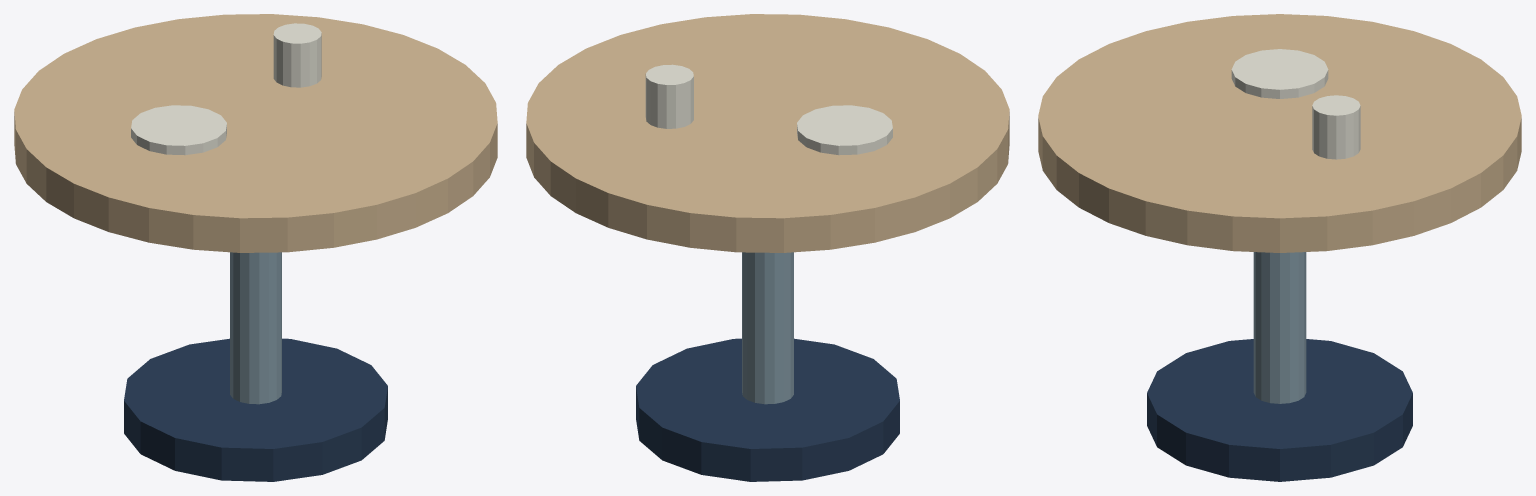
Rendered from table_round.glb.
3 views of the same model, side by side, from view 1: azimuth 30°, elevation 25°; view 2: azimuth 150°, elevation 25°; view 3: azimuth 270°, elevation 25° (orthographic).
Visible parts, largest first — view 1: top, base, stem, plate, cup; view 2: top, base, stem, plate, cup; view 3: top, base, stem, plate, cup.
Part boxes in pixels (left/top/right/bottom): top: left=14, top=14, right=497, bottom=252; base: left=124, top=338, right=387, bottom=481; stem: left=230, top=252, right=281, bottom=404; plate: left=131, top=105, right=226, bottom=155; cup: left=273, top=23, right=321, bottom=87; top: left=526, top=14, right=1009, bottom=252; base: left=636, top=338, right=899, bottom=481; stem: left=742, top=252, right=793, bottom=404; plate: left=797, top=105, right=892, bottom=155; cup: left=645, top=64, right=693, bottom=128; top: left=1038, top=14, right=1521, bottom=252; base: left=1147, top=339, right=1412, bottom=481; stem: left=1253, top=252, right=1306, bottom=403; plate: left=1231, top=49, right=1328, bottom=98; cup: left=1312, top=95, right=1360, bottom=159.
Bounding box in the file's own units: 1.2 × 0.97 × 1.2.
